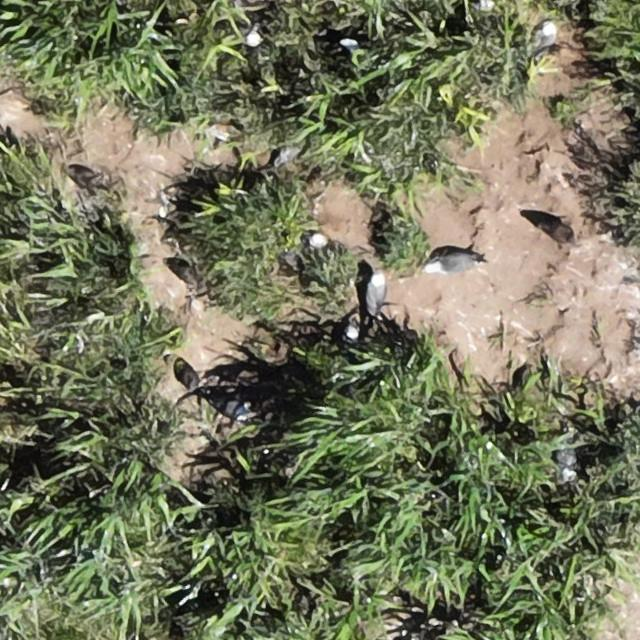umineko: (429, 253, 475, 273), (174, 361, 199, 390), (366, 272, 384, 310), (537, 22, 557, 50)
